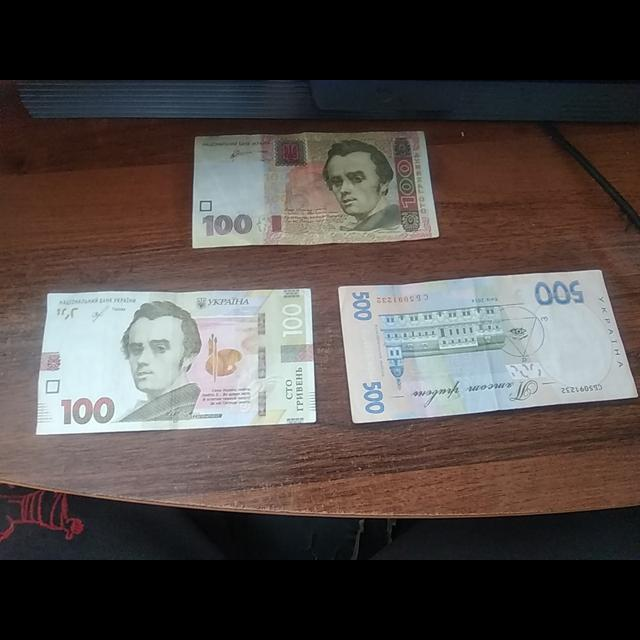100uah: (36, 291, 318, 436), (193, 128, 438, 247)
500uah: (336, 273, 638, 423)
